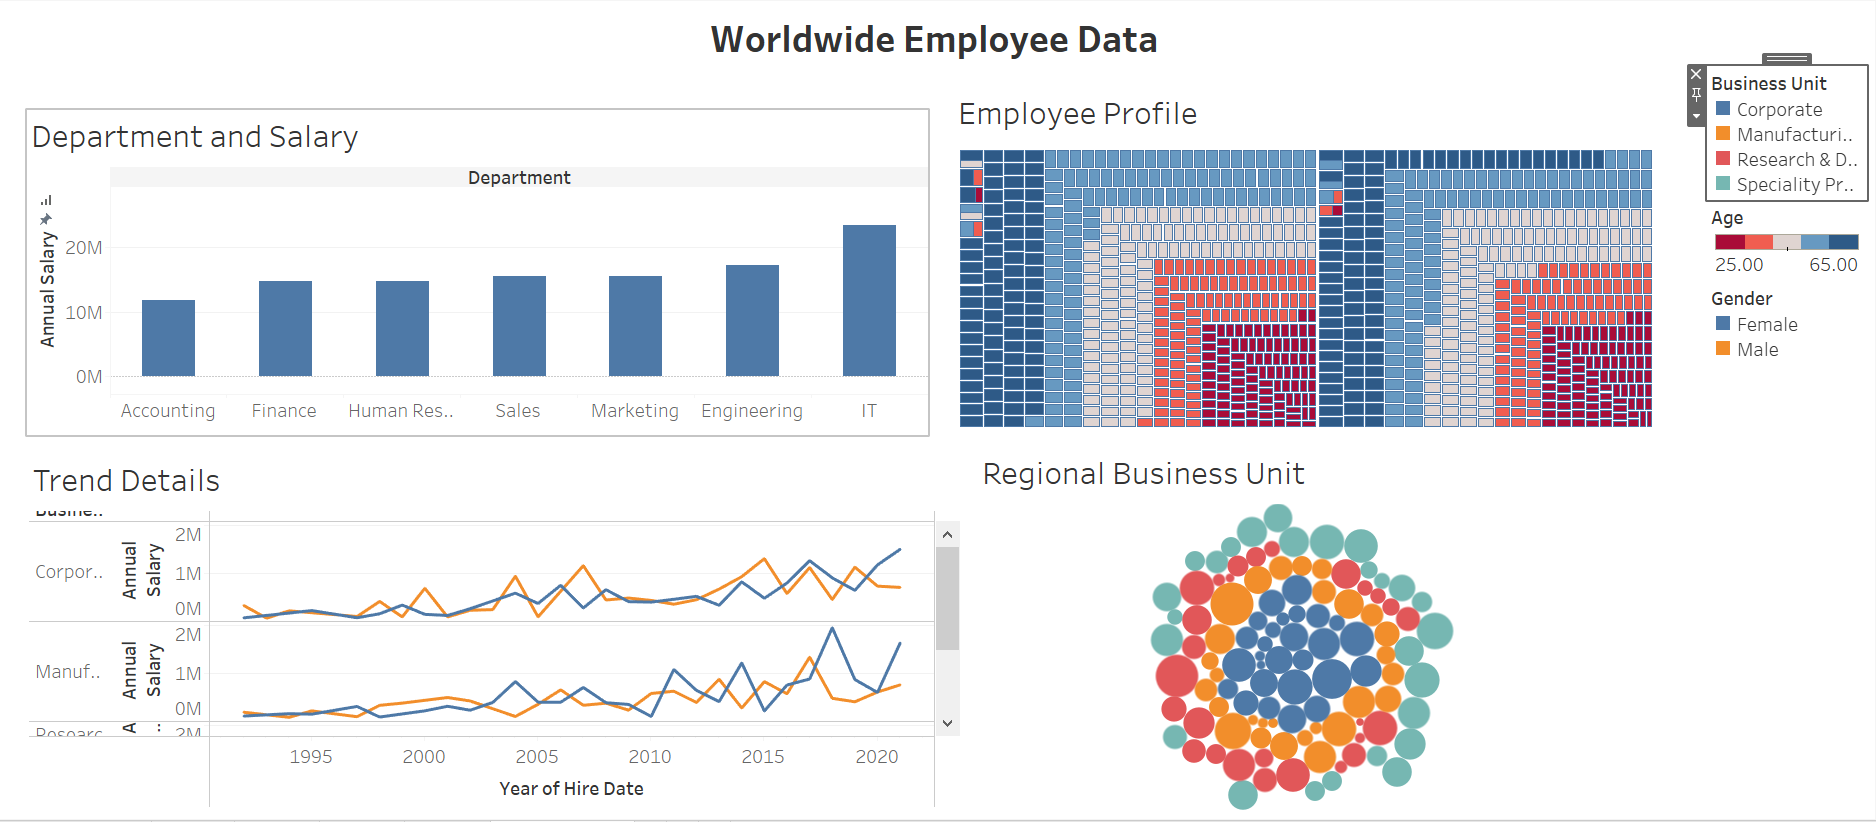

What the dashboard file says about the page in this screenshot:
{"tool":"tableau","page":{"name":"Dashboard 1","canvas":[1000,1000],"units":"permille","ordinal":0},"visuals":[{"type":"title","box":[4.2,9.8,991.5,69.7]},{"type":"legend","title":"Sheet 3","param":"[federated.0iz28un01c8l2u0zk0nqh0aqo6y0].[none:Business Unit:nk]","box":[910.7,79.5,85,163.8]},{"type":"worksheet","title":"Sheet 2","mark":"Automatic","box":[510.6,105.1,373.5,423]},{"type":"worksheet","title":"Sheet 1","mark":"Automatic","rows":["Annual Salary"],"cols":["Department"],"box":[18.1,133.2,478.8,397.3]},{"type":"legend","title":"Sheet 2","param":"[federated.0iz28un01c8l2u0zk0nqh0aqo6y0].[sum:Age:qk]","box":[910.7,243.3,85,99]},{"type":"legend","title":"Sheet 4","param":"[federated.0iz28un01c8l2u0zk0nqh0aqo6y0].[none:Gender:nk]","box":[910.7,342.3,85,102.7]},{"type":"worksheet","title":"Sheet 3","mark":"Circle","box":[523.4,545.2,344.3,443.8]},{"type":"worksheet","title":"Sheet 4","mark":"Automatic","rows":["Business Unit","Annual Salary"],"cols":["Hire Date"],"box":[19.2,553.8,494.6,432.8]}]}

Visuals, with their boxes on the dashboard's canvas, which has no fixed pixel size, in thousandths of its width and height (x1, y1, x2, y2). These are canvas units, not pixel positions in the 1876x822 screenshot, which may show the page scaled, cropped or inside an application window:
title: 4:10:996:80
"Sheet 3" legend: 911:80:996:243
"Sheet 2" worksheet: 511:105:884:528
"Sheet 1" worksheet: 18:133:497:530
"Sheet 2" legend: 911:243:996:342
"Sheet 4" legend: 911:342:996:445
"Sheet 3" worksheet (Circle marks): 523:545:868:989
"Sheet 4" worksheet: 19:554:514:987
